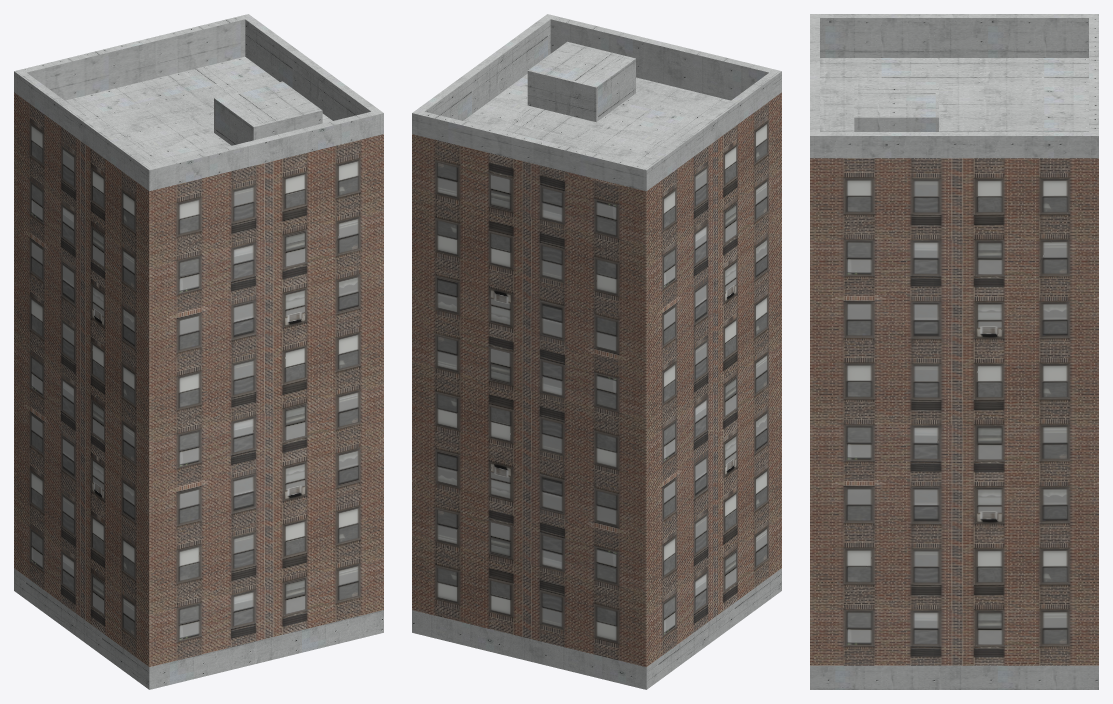
File: building_med.obj
3 views of the same model, side by side, from view 1: azimuth 30°, elevation 25°; view 2: azimuth 150°, elevation 25°; view 3: azimuth 270°, elevation 25° (orthographic). The views are drawn at different scales.
Parts seen in each view (by area): view 1: Cube.000_Cube.001_Cube.000_Cube.004; view 2: Cube.000_Cube.001_Cube.000_Cube.004; view 3: Cube.000_Cube.001_Cube.000_Cube.004.
Boxes of the visible parts, bbox=[...] form: Cube.000_Cube.001_Cube.000_Cube.004: bbox=[14, 14, 383, 689]; Cube.000_Cube.001_Cube.000_Cube.004: bbox=[412, 14, 781, 689]; Cube.000_Cube.001_Cube.000_Cube.004: bbox=[810, 14, 1098, 689].
Size of the model in its own units: 2 by 4.23 by 2.
